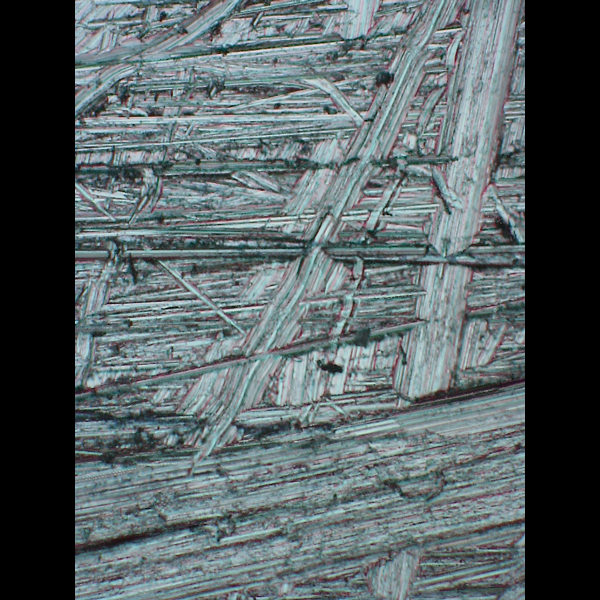d: (78, 356, 521, 599), (359, 0, 525, 597)
